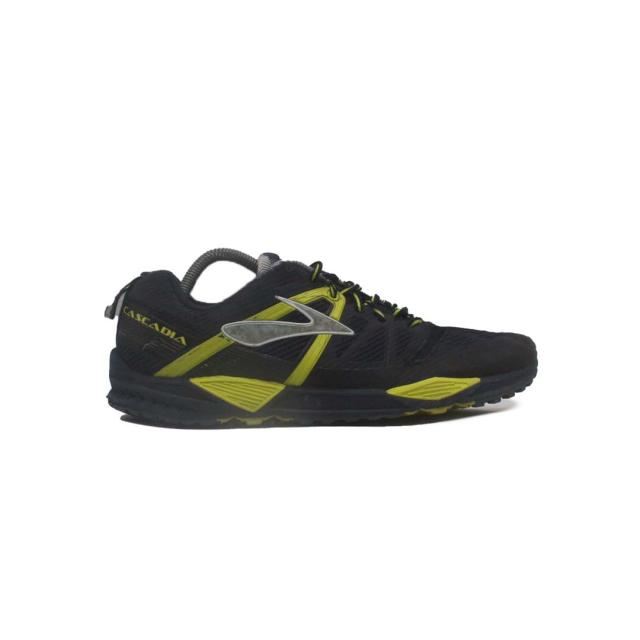heel: (92, 255, 153, 378)
midsole: (104, 348, 539, 432)
uppersole: (158, 250, 550, 386)
